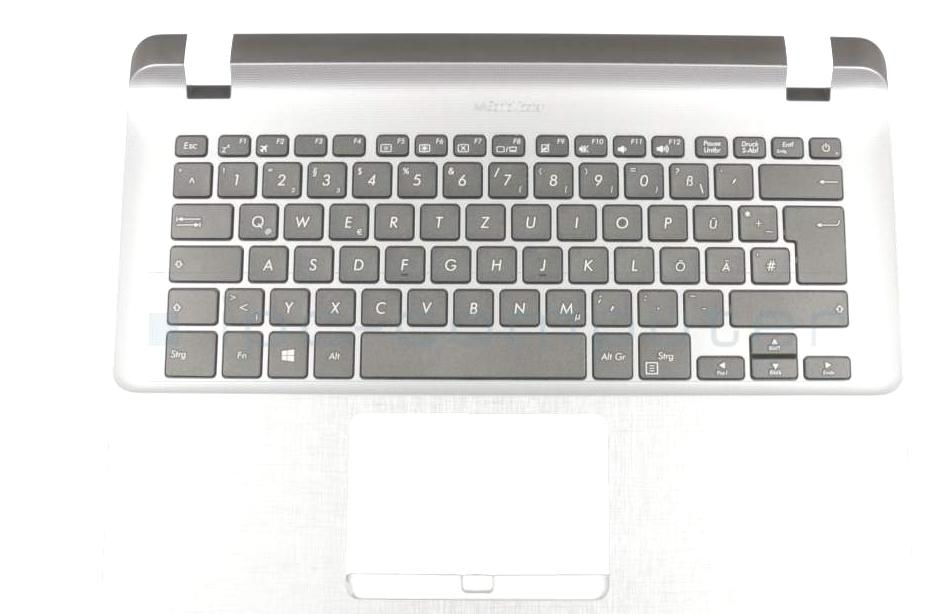0: (622, 160, 663, 197)
1: (215, 159, 256, 196)
2: (260, 159, 301, 196)
3: (304, 159, 346, 196)
4: (350, 160, 391, 196)
5: (395, 160, 436, 196)
6: (441, 160, 482, 196)
7: (486, 160, 527, 196)
8: (531, 160, 573, 197)
9: (577, 160, 618, 197)
a: (246, 243, 288, 281)
accent: (712, 161, 752, 198)
ae: (703, 244, 745, 283)
alt-left: (312, 329, 354, 378)
altgr-right: (591, 330, 633, 379)
b: (451, 286, 494, 325)
c: (359, 285, 401, 325)
caret: (171, 160, 211, 196)
comma: (589, 286, 632, 325)
d: (337, 243, 378, 282)
del: (757, 162, 842, 199)
e: (327, 200, 368, 239)
enter: (780, 203, 846, 284)
f: (383, 243, 425, 282)
g: (428, 243, 470, 282)
h: (474, 243, 516, 282)
hash: (748, 245, 790, 283)
i: (555, 201, 596, 239)
j: (520, 243, 562, 282)
k: (566, 243, 608, 282)
keyboard: (149, 121, 867, 396)
l: (612, 243, 653, 282)
less: (221, 285, 264, 324)
m: (543, 286, 586, 326)
minus: (680, 288, 723, 326)
n: (497, 286, 540, 326)
o: (600, 201, 642, 239)
oe: (658, 244, 699, 282)
p: (646, 202, 687, 239)
plus: (735, 202, 777, 241)
point: (636, 287, 678, 325)
q: (236, 200, 278, 239)
r: (372, 201, 413, 239)
s: (291, 243, 333, 281)
shift-left: (164, 285, 218, 324)
shift-lock: (167, 243, 243, 281)
shift-right: (727, 287, 847, 326)
space: (359, 328, 585, 379)
ss: (668, 161, 708, 197)
strg-left: (162, 329, 217, 378)
strg-right: (636, 330, 692, 379)
t: (418, 200, 459, 238)
tab: (168, 201, 233, 239)
u: (509, 201, 551, 239)
ue: (691, 202, 732, 240)
v: (405, 285, 447, 326)
w: (282, 200, 323, 239)
x: (313, 285, 355, 325)
y: (267, 285, 309, 325)
z: (463, 201, 505, 239)
